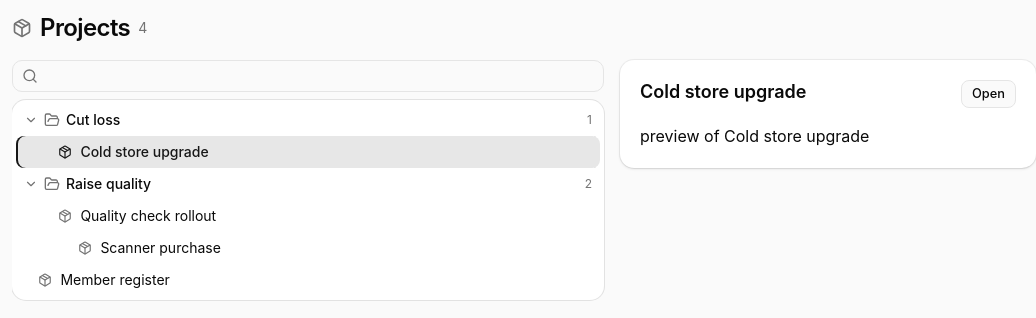
Scenario: Explorer › closes a folder
Click the list item "Cut loss 1" at (93, 120), box [16,104,600,136]
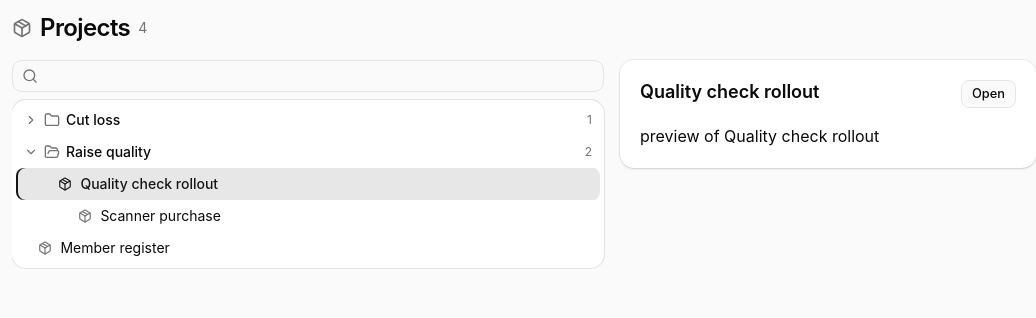
Now the text "Cold store upgrade" is gone
